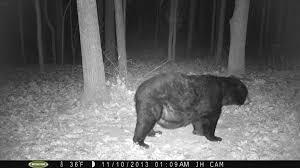bear: (127, 66, 255, 154)
